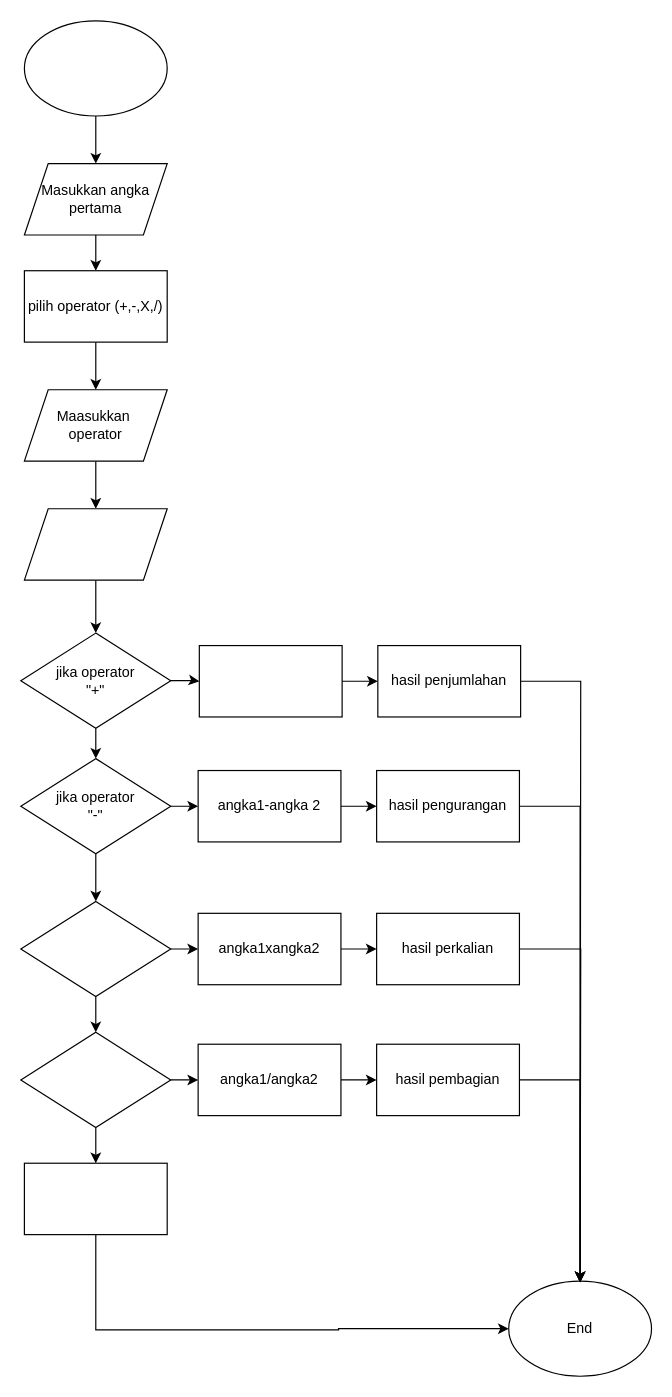
This 672x1397 diagram has some shape labels left out. Each missing label, with the centre of its shape:
angka1+angka 2: point 270,680
jika operator "/": point 95,1079
jika operator "X": point 95,948
masukan operator yang benar: point 95,1198
Masukkan angka kedua: point 95,544
start: point 95,68
